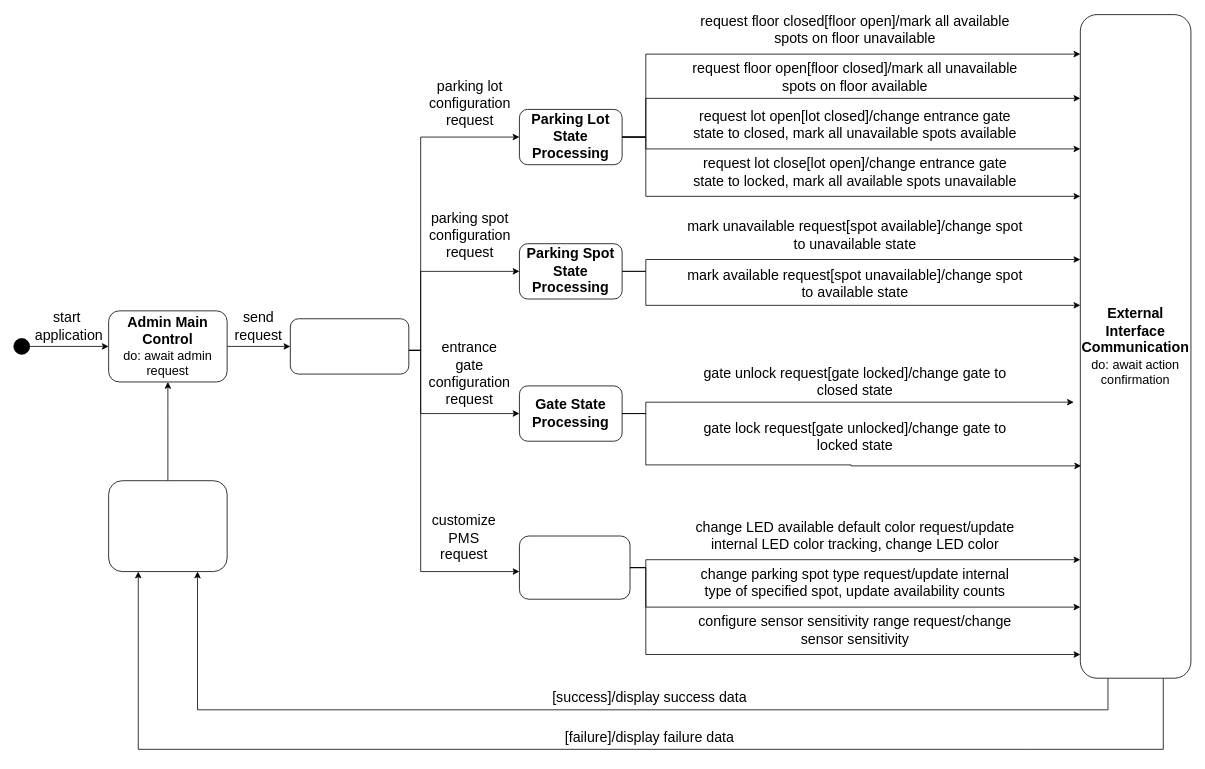
Some shapes in this 1205 by 769 pixel diagram are drawn without their labels. Here are the shapes that lost their labels. From the top down, the centre of each, then its label:
the point at 349,346: PMS Processing do: determine request type
the point at 167,526: Update do: update application and display user-feedback
the point at 574,567: PMS Customization Processing
